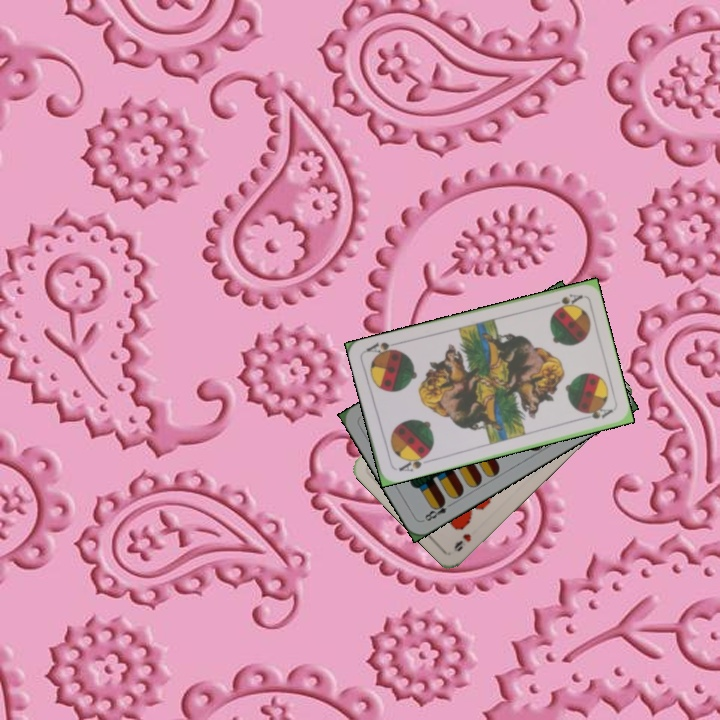E8: (420, 496, 456, 524)
H9: (450, 530, 474, 554)
SA: (395, 450, 431, 474), (550, 289, 585, 313)
